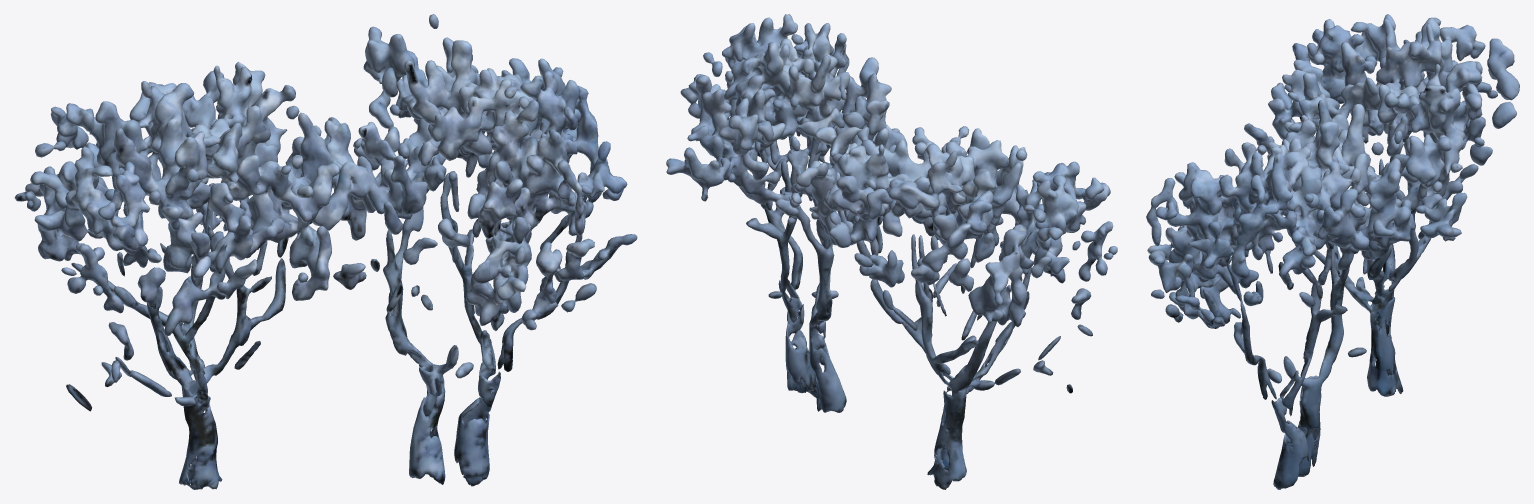
Rendered from Japanese_trees_coated_0423132130_refine.fbx.
3 views of the same model, side by side, from view 1: azimuth 30°, elevation 25°; view 2: azimuth 150°, elevation 25°; view 3: azimuth 270°, elevation 25° (orthographic). The views are drawn at different scales.
Parts seen in each view (by area): view 1: Mesh_0; view 2: Mesh_0; view 3: Mesh_0.
Boxes of the visible parts, <box> form: Mesh_0: <box>14,14,637,489</box>; Mesh_0: <box>666,14,1117,489</box>; Mesh_0: <box>1146,14,1519,489</box>.
Bounding box in the file's own units: 195 × 152 × 138.
1 material, 1 textured.
